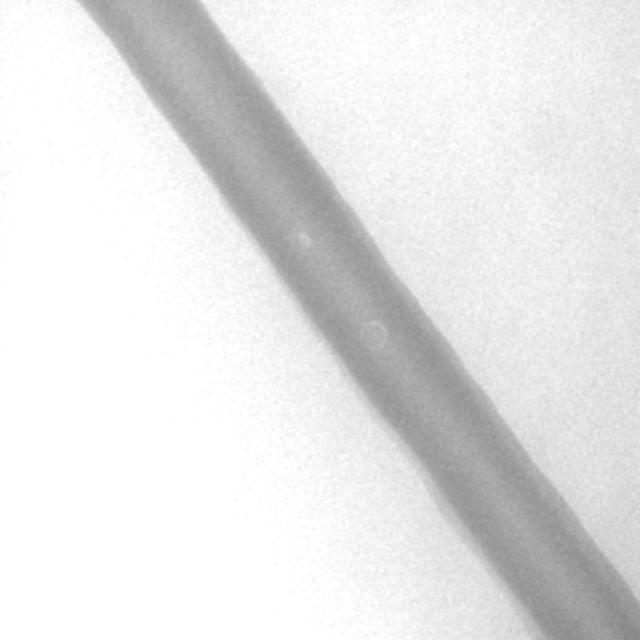hollow bead: (358, 318, 390, 355)
